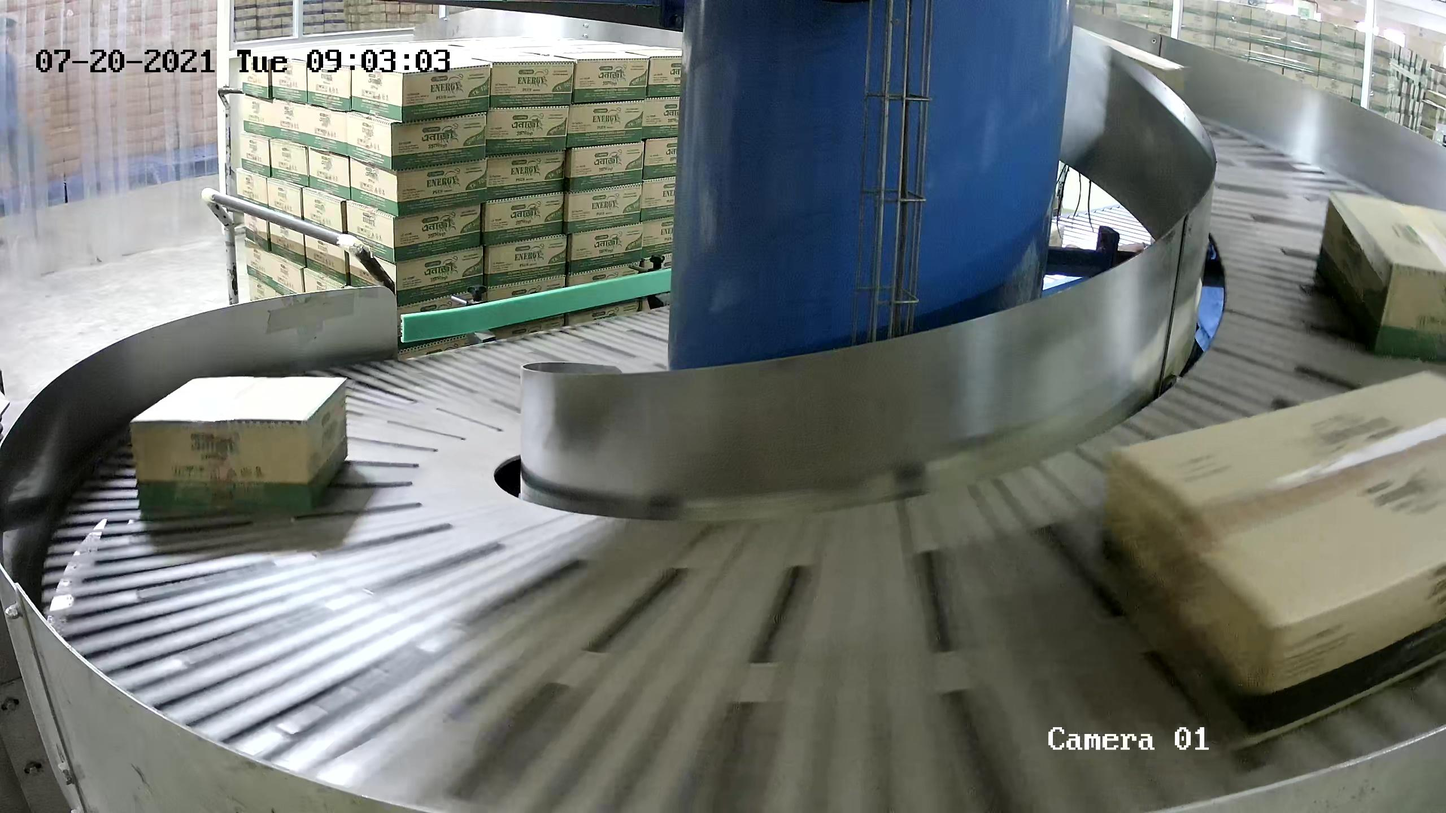Box: (1103, 370, 1446, 757), (132, 376, 350, 523), (1315, 189, 1446, 367)
